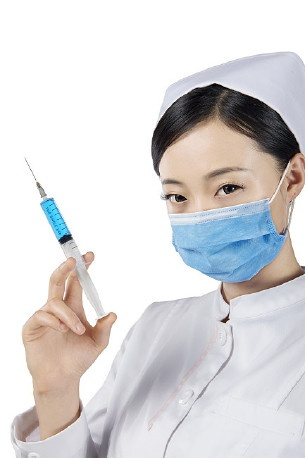Mask: (158, 163, 276, 280)
